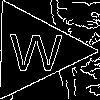W: (9, 25, 63, 72)
